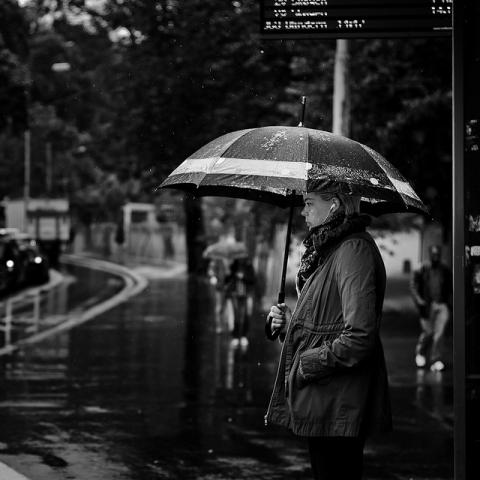car: (15, 236, 51, 284)
truck: (0, 198, 70, 241)
